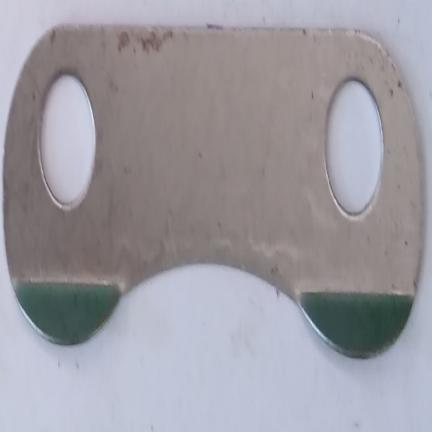besi_tidak_karat: (3, 26, 424, 357)
